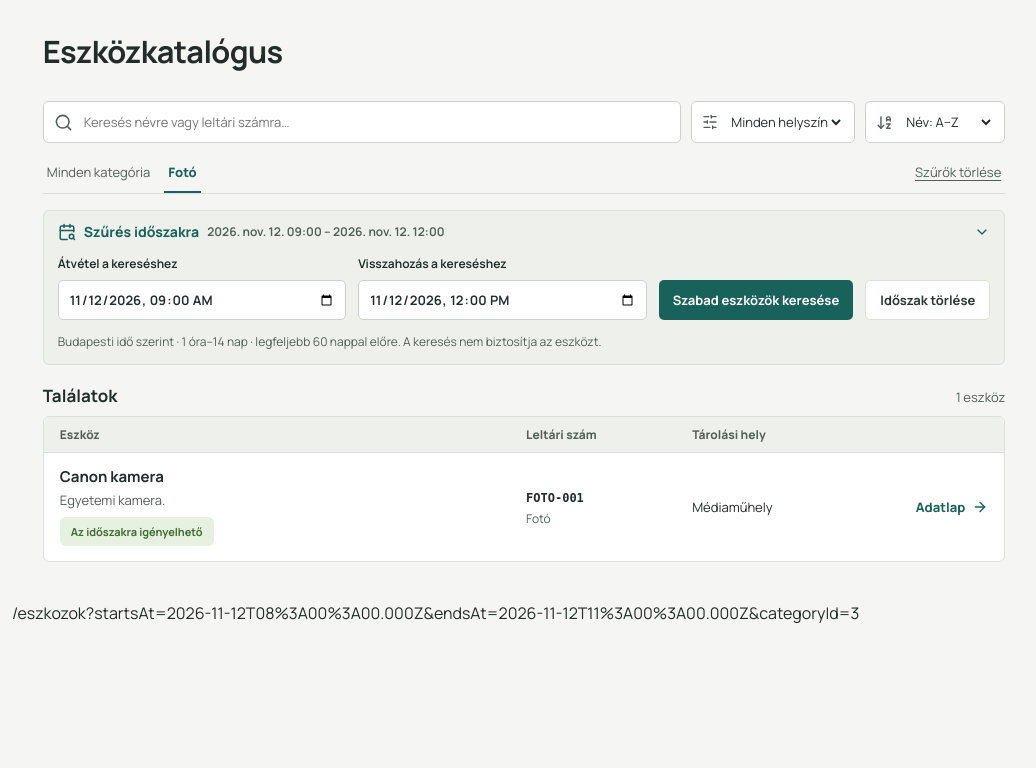
Test: időszakra szűrt katalógus › URL-ből helyreállítja a dátumokat, és csak az időszakot törli
Expected: the field labelled "Átvétel a kereséshez" holds "2026-11-12T09:00", [58,280,346,320]
Expected: the text "Az időszakra igényelhető" is shown, [60,517,214,546]
Step 1. Click the button "Időszak törlése" → click(928, 300), box [865,280,990,320]
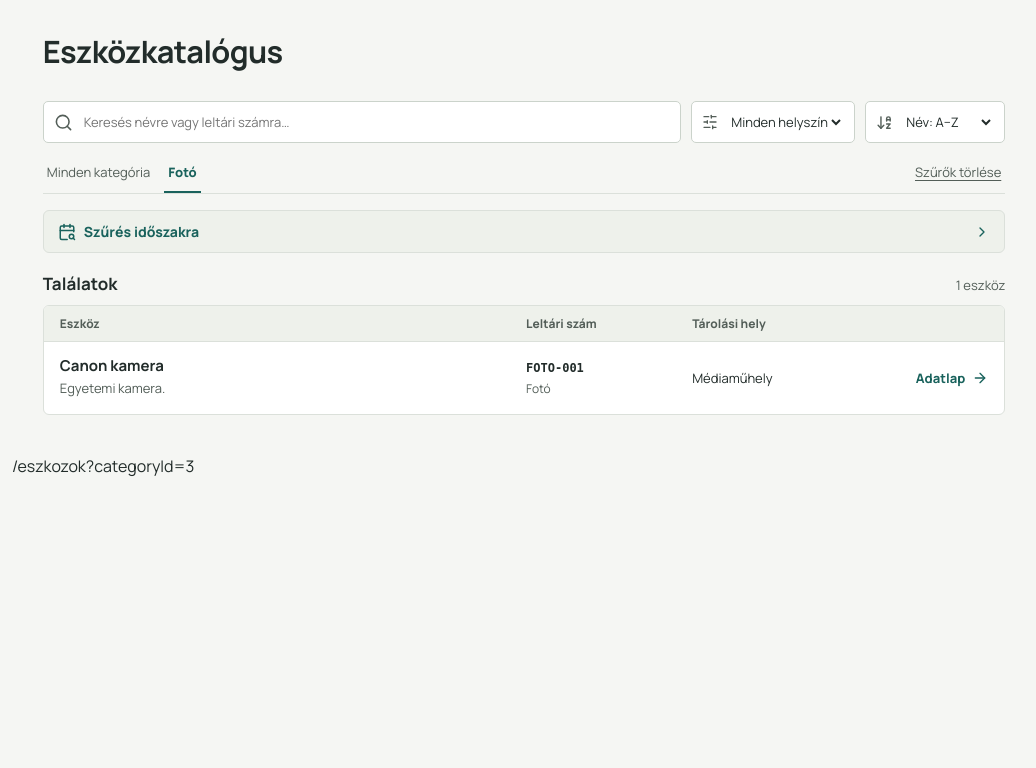
Expected: the heading "Canon kamera" is shown, [60,355,164,376]
Expected: the text "Az időszakra igényelhető" is gone
Expected: the text named "Aktuális cím" reads "/eszkozok?categoryId=3", [12,455,194,477]
